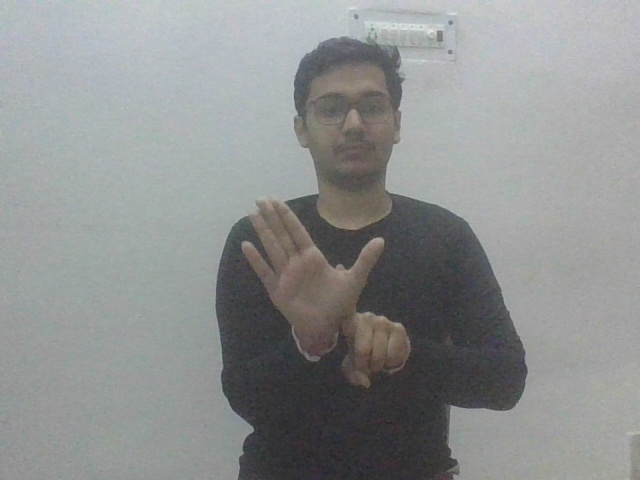Y: (238, 195, 412, 390)
